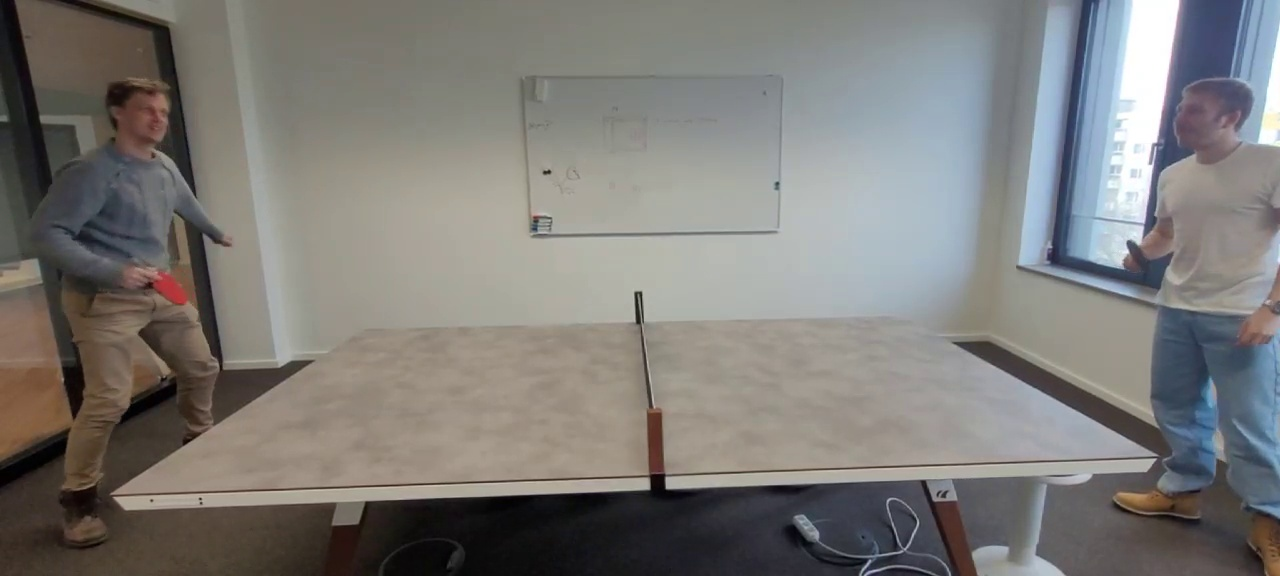1: (152, 274, 187, 304), (1127, 239, 1148, 271)
ttplatte: (112, 313, 1156, 492)
